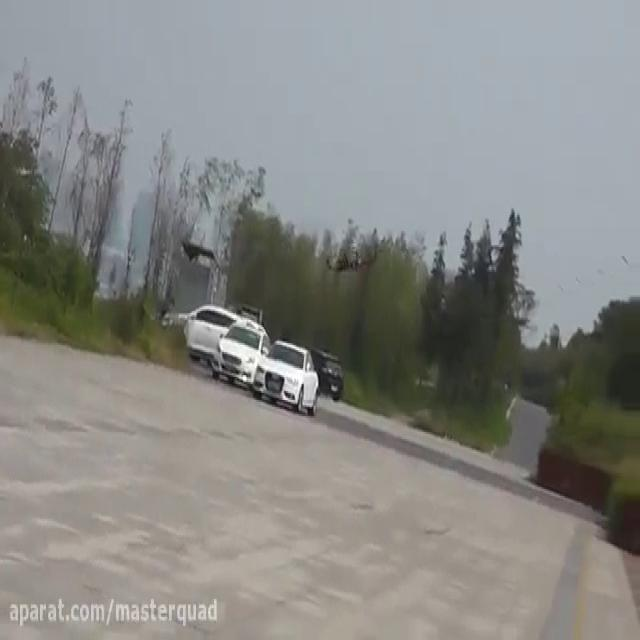drone: (319, 240, 383, 274)
